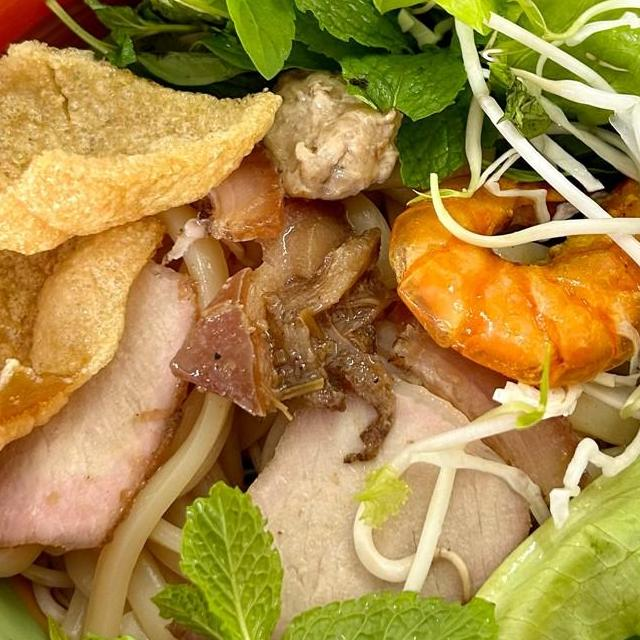banh da: (0, 31, 286, 260), (0, 164, 173, 485)
mi: (14, 364, 307, 640)
mi quang: (0, 0, 640, 640)
thit heo: (161, 302, 605, 640), (0, 248, 212, 570)
tom: (384, 165, 640, 394)
